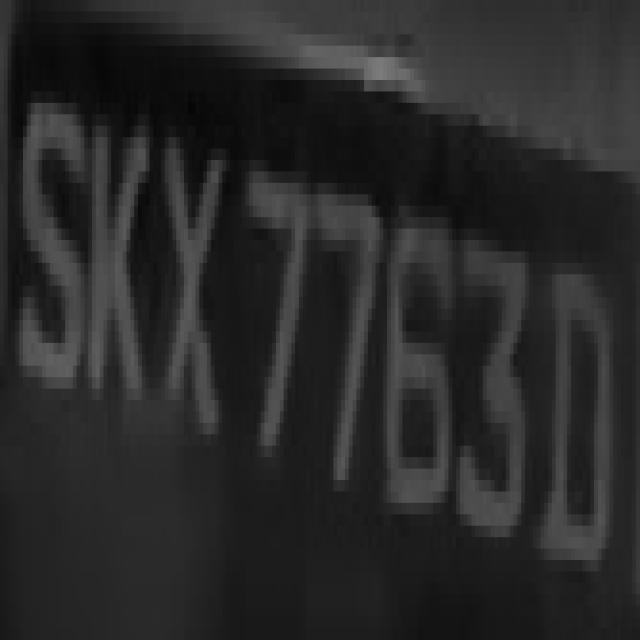3: (452, 183, 525, 560)
6: (376, 172, 448, 514)
7: (314, 126, 387, 503), (238, 148, 314, 503)
D: (548, 206, 621, 628)
K: (80, 80, 150, 446)
S: (23, 68, 80, 446)
X: (150, 80, 226, 503)
